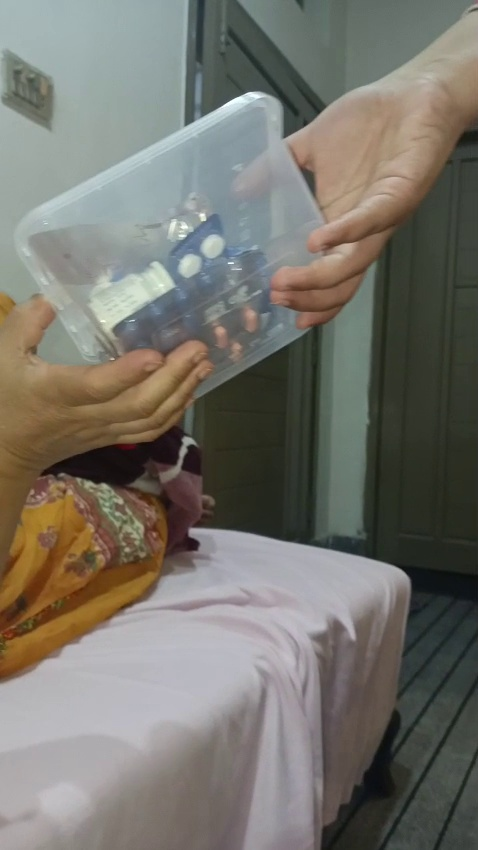medicine box: (14, 88, 352, 406)
